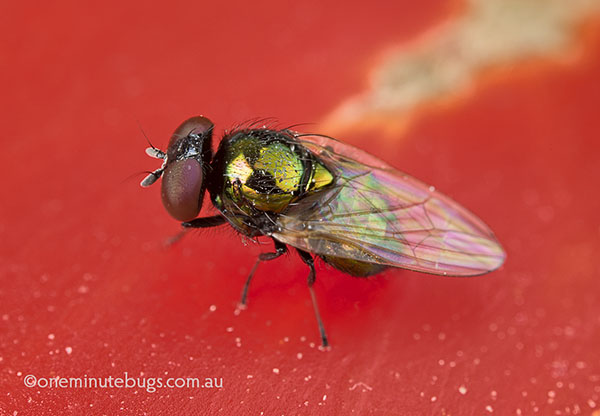Fruit fly: (132, 79, 479, 343)
